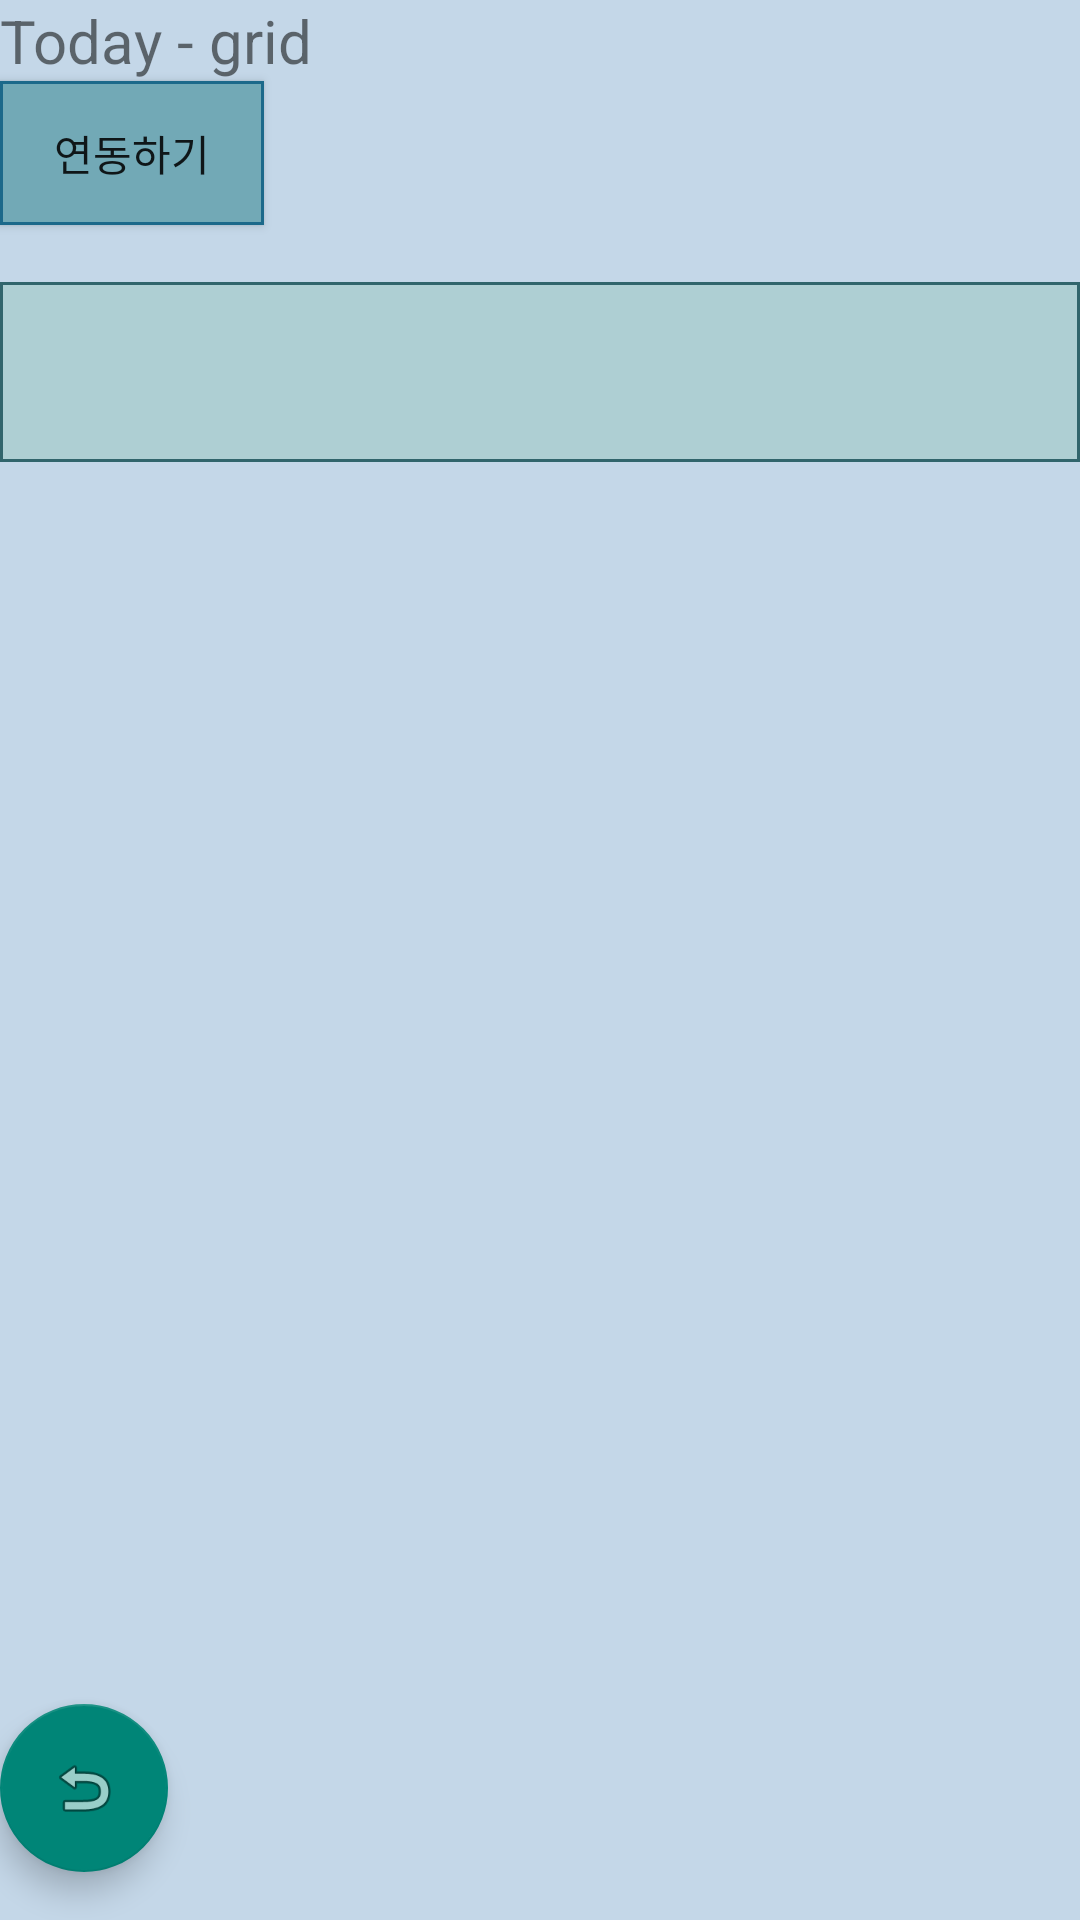

Named icons in this screenshot (1080 x 1920) and their centers, (x=x, y=y):
revert: (x=84, y=1788)
